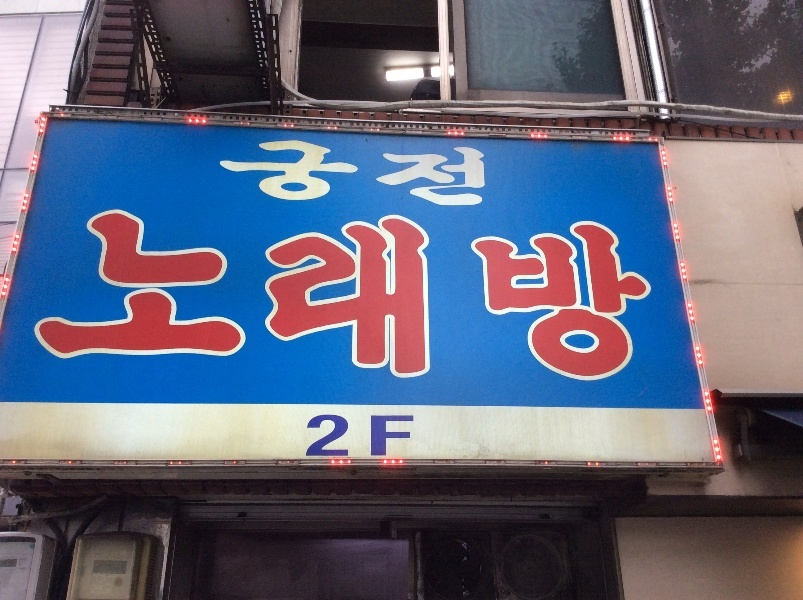text: (81, 208, 96, 389), (97, 208, 112, 389), (113, 208, 128, 389), (129, 208, 144, 389), (145, 208, 160, 389), (161, 208, 176, 389), (177, 208, 192, 389), (193, 208, 208, 389), (209, 208, 224, 389), (225, 208, 240, 389), (241, 208, 256, 389), (257, 208, 272, 389), (273, 208, 288, 389), (289, 208, 304, 389), (305, 208, 320, 389), (321, 208, 336, 389), (337, 208, 352, 389), (353, 208, 368, 389), (369, 208, 384, 389), (385, 208, 400, 389), (401, 208, 416, 389), (417, 208, 432, 389), (433, 208, 448, 389), (449, 208, 464, 389), (465, 208, 480, 389), (481, 208, 496, 389), (497, 208, 512, 389), (513, 208, 528, 389), (529, 208, 544, 389), (545, 208, 560, 389), (561, 208, 576, 389), (577, 208, 592, 389), (593, 208, 608, 389), (609, 208, 624, 389), (625, 208, 640, 389), (641, 208, 656, 389), (241, 134, 256, 217), (257, 134, 272, 217), (273, 134, 288, 217), (289, 134, 304, 217), (305, 134, 320, 217), (321, 134, 336, 217), (337, 134, 352, 217), (353, 134, 368, 217), (369, 134, 384, 217), (385, 134, 400, 217), (401, 134, 416, 217), (417, 134, 432, 217), (433, 134, 448, 217), (449, 134, 464, 217), (465, 134, 480, 217), (657, 208, 662, 389), (321, 413, 336, 459), (337, 413, 352, 459), (353, 413, 368, 459), (369, 413, 384, 459), (385, 413, 400, 459), (401, 413, 416, 459), (233, 134, 240, 217), (481, 134, 488, 217), (308, 413, 320, 459), (77, 208, 80, 389)
